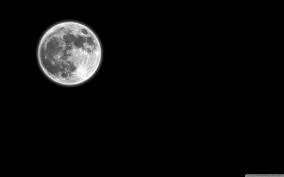moon: (34, 18, 106, 89)
